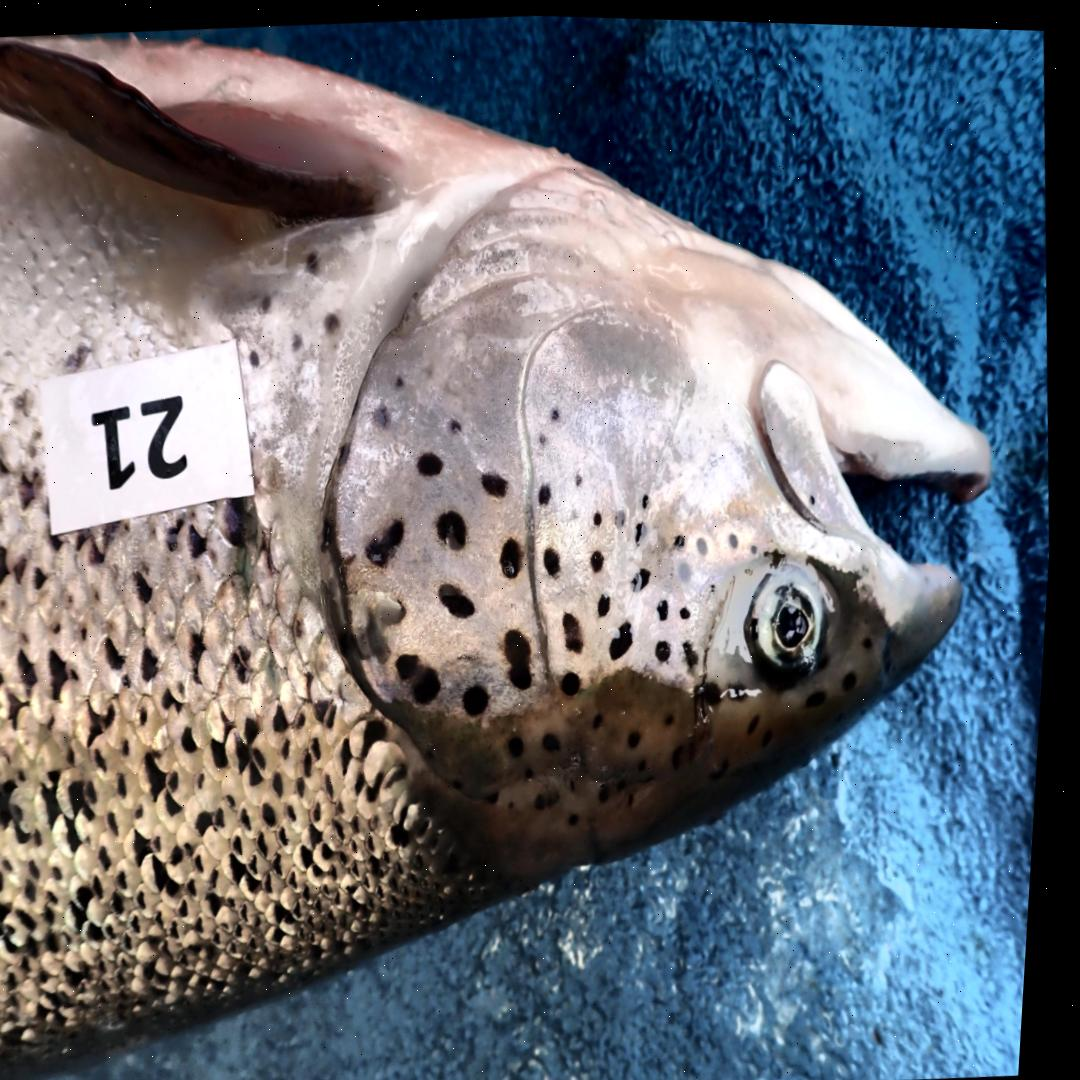spot: (372, 596, 412, 661), (403, 651, 449, 700), (510, 626, 539, 687), (372, 517, 409, 564), (444, 581, 482, 615), (443, 506, 471, 546), (568, 607, 590, 650), (506, 535, 528, 575), (616, 618, 640, 654), (471, 683, 497, 712), (487, 470, 513, 495), (422, 449, 448, 473), (689, 636, 705, 673), (549, 544, 567, 573), (567, 667, 587, 690), (638, 563, 656, 587), (683, 556, 699, 579), (662, 634, 677, 657), (378, 403, 393, 426), (597, 545, 610, 568), (543, 481, 557, 502), (604, 591, 617, 611), (663, 594, 674, 617), (453, 414, 467, 431), (702, 532, 713, 549), (620, 507, 631, 524), (679, 530, 691, 544), (578, 468, 589, 483), (686, 601, 697, 616), (647, 488, 656, 506), (641, 517, 648, 538), (735, 528, 744, 543), (555, 404, 563, 418), (600, 508, 607, 522), (400, 372, 408, 384), (544, 429, 550, 441), (756, 540, 763, 549)
